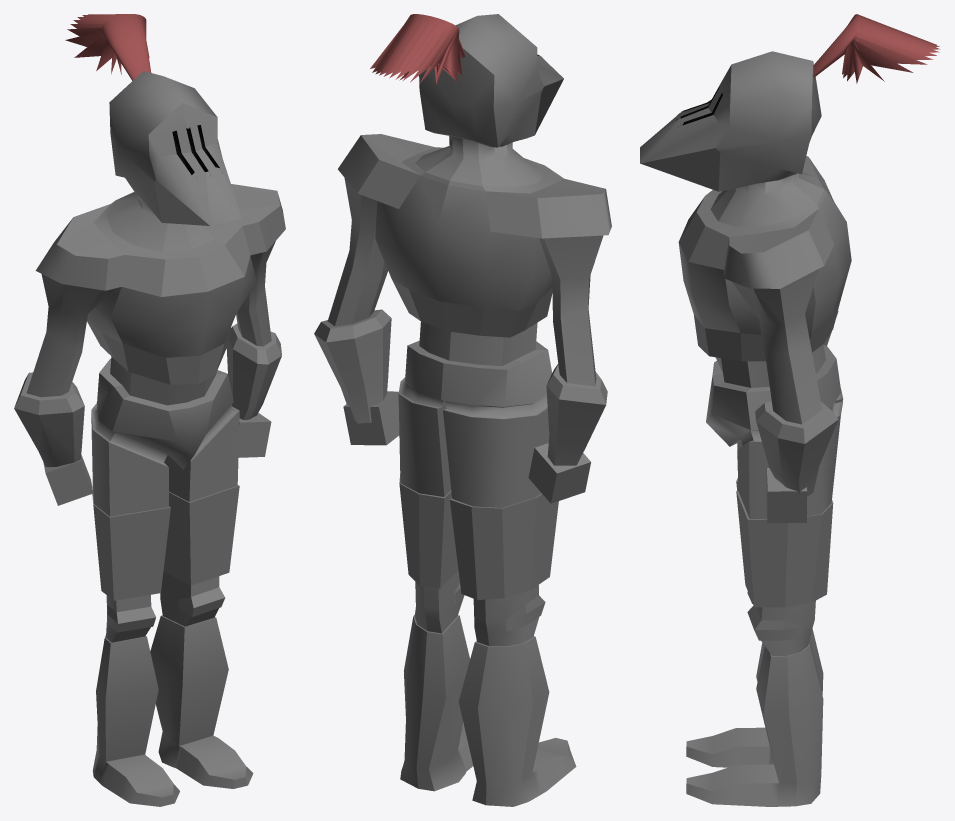
The model's file is armour_normal.glb.
The picture shows the model from 3 angles, left to right: view 1: azimuth 30°, elevation 25°; view 2: azimuth 150°, elevation 25°; view 3: azimuth 270°, elevation 25°; orthographic projection. The views are drawn at different scales.
Visible parts, largest first — view 1: armour; view 2: armour; view 3: armour.
Part boxes in pixels (bbox=[...]): armour: bbox=[14, 14, 285, 806]; armour: bbox=[314, 14, 611, 806]; armour: bbox=[640, 14, 940, 806].
Size of the model in its own units: 0.00987 by 0.0257 by 0.00923.
